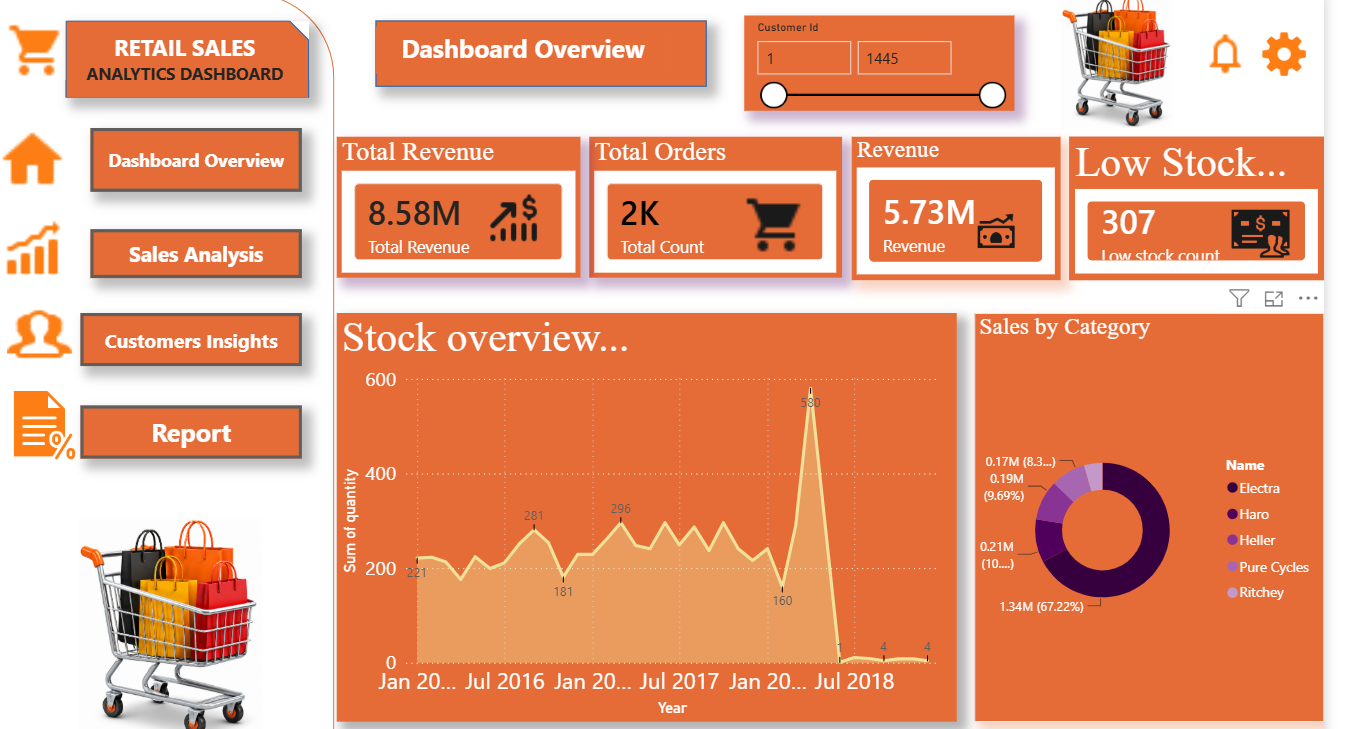

Layout of this report page (visuals, bound fields, positions):
{"tool":"powerbi","page":{"name":"Home","canvas":[1280,720],"ordinal":0},"visuals":[{"type":"shape","box":[364.3,26.5,319.7,63.9],"z":4},{"type":"textbox","box":[364.3,32.6,284.7,45.8],"z":5},{"type":"shape","box":[0,0,324.5,720.2],"z":12},{"type":"image","box":[8.4,21.7,57.9,67.6],"z":13},{"type":"shape","box":[65.1,26.5,235.3,74.8],"z":14},{"type":"textbox","box":[79.6,32.6,201.5,60.3],"z":15},{"type":"image","box":[0,130.3,66.4,61.5],"z":16},{"type":"image","box":[0,208.7,66.4,76],"z":17},{"type":"actionButton","box":[89.3,130.3,203.9,61.5],"z":18},{"type":"actionButton","box":[89.3,228,203.9,47.1],"z":19},{"type":"image","box":[0,297.5,80,62.5],"z":20},{"type":"actionButton","box":[80,308.8,213.8,51.2],"z":21},{"type":"image","box":[8.4,506.7,316.1,213.5],"z":23},{"type":"cardVisual","title":"Total Orders","fields":{"Data":["Orders.total count"]},"box":[570.6,138.7,243.7,136.3],"z":26},{"type":"cardVisual","title":"Total Revenue","fields":{"Data":["Brands.Total revenu"]},"box":[326.9,138.7,235.3,136.3],"z":27},{"type":"cardVisual","title":"Revenue ","fields":{"Data":["Brands.revenue2"]},"box":[824,138.7,201.5,138.7],"z":29},{"type":"areaChart","title":"Stock  overview...","fields":{"Category":["Orders.order_date.Variation.Date Hierarchy.Year","Orders.order_date.Variation.Date Hierarchy.Month"],"Y":["Sum(Order_items.quantity)"]},"box":[326.9,308.8,598.4,394.5],"z":30},{"type":"donutChart","title":"Sales by Category","fields":{"Category":["Brands.brand_name"],"Y":["Brands.Total revenu"]},"box":[942.2,308.8,337.8,394.5],"z":31},{"type":"slicer","fields":{"Values":["Customers.customer_id"]},"box":[720.2,21.7,260.6,91.7],"z":32},{"type":"image","box":[0,381.2,79.6,68.8],"z":33},{"type":"actionButton","box":[79.6,398.1,213.8,51.2],"z":34},{"type":"cardVisual","title":"Low  Stock...","fields":{"Data":["Order_items.Low stock count"]},"box":[1033.9,138.7,246.1,138.7],"z":35},{"type":"image","box":[720.2,191.8,61.5,63.9],"z":36},{"type":"image","box":[454.8,187,85.7,60.3],"z":37},{"type":"image","box":[1157,200.3,123.1,55.5],"z":38},{"type":"image","box":[925.3,211.1,76,41],"z":39},{"type":"image","box":[1218.5,31.4,45.8,55.5],"z":40},{"type":"image","box":[1150.9,36.2,67.6,44.6],"z":41},{"type":"image","box":[896.4,0,368,130.3],"z":42}]}

Visuals, with their boxes in screenshot pixels (x1, y1, x2, y2):
shape: (373, 17, 704, 83)
textbox: (373, 23, 668, 71)
shape: (0, 0, 332, 728)
image: (5, 12, 65, 82)
shape: (64, 17, 307, 94)
textbox: (79, 23, 287, 86)
image: (0, 124, 65, 188)
image: (0, 205, 65, 284)
actionButton: (89, 124, 300, 188)
actionButton: (89, 225, 300, 274)
image: (0, 297, 79, 362)
actionButton: (79, 309, 300, 362)
image: (5, 514, 332, 728)
"Total Orders" cardVisual: (587, 133, 839, 274)
"Total Revenue" cardVisual: (335, 133, 578, 274)
"Revenue " cardVisual: (849, 133, 1057, 276)
"Stock  overview..." areaChart: (335, 309, 954, 717)
"Sales by Category" donutChart: (971, 309, 1321, 717)
slicer - Customers.customer_id: (742, 12, 1011, 107)
image: (0, 384, 79, 455)
actionButton: (79, 401, 300, 454)
"Low  Stock..." cardVisual: (1066, 133, 1321, 276)
image: (742, 188, 805, 254)
image: (467, 183, 556, 245)
image: (1193, 197, 1321, 254)
image: (954, 208, 1032, 250)
image: (1257, 22, 1304, 79)
image: (1187, 27, 1257, 73)
image: (924, 0, 1305, 124)
